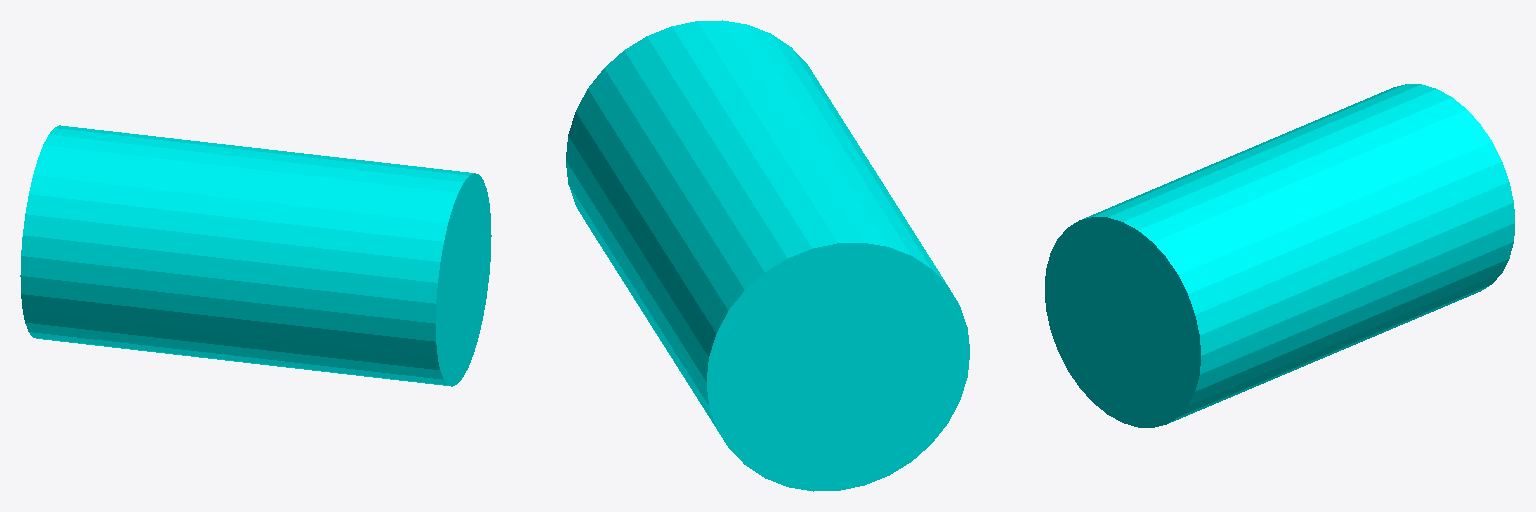
URDF robot description (spider):
<?xml version="1.0" ?>
<!-- =================================================================================== -->
<!-- |    This document was autogenerated by xacro from spider2.xacro                  | -->
<!-- |    EDITING THIS FILE BY HAND IS NOT RECOMMENDED                                 | -->
<!-- =================================================================================== -->
<robot name="spider" xmlns:xacro="http://www.ros.org/wiki/xacro">
  <link name="1">
    <visual>
      <geometry>
        <cylinder length="0.4" radius="0.1"/>
      </geometry>
      <origin rpy="0.786425 1.57285 0" xyz="0 0 0"/>
      <material name="yellow">
        <color rgba="0 1 1 1"/>
      </material>
    </visual>
  </link>
</robot>

--- Facts derived from the render (not from the file) ---
The picture shows the robot from 3 angles, left to right: view 1: azimuth 30°, elevation 25°; view 2: azimuth 150°, elevation 25°; view 3: azimuth 270°, elevation 25°; orthographic projection.
Model spider with 1 links and 0 joints (none), rooted at 1, posed all joints at 0.
Visible links, largest first — view 1: 1; view 2: 1; view 3: 1.
Link boxes in pixels (box(x1,y1,x2,y2)): 1: box(20, 125, 491, 386); 1: box(566, 20, 969, 491); 1: box(1045, 84, 1514, 427).
Size in the robot's own frame: 0.4241 by 0.4244 by 0.2006 metres.
Geometry: primitives only (box / cylinder / sphere), no mesh files.